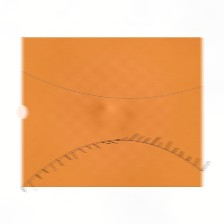pinguecula_lesion: (26, 96, 66, 128)
